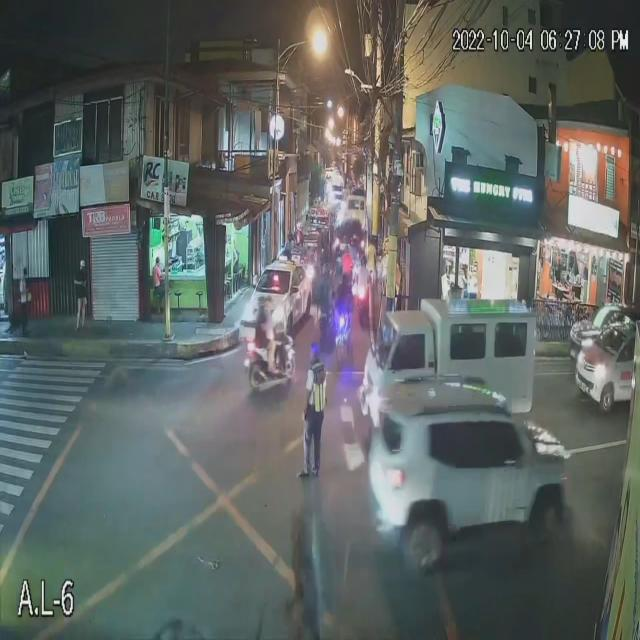Full-Faced: (359, 246, 371, 270)
